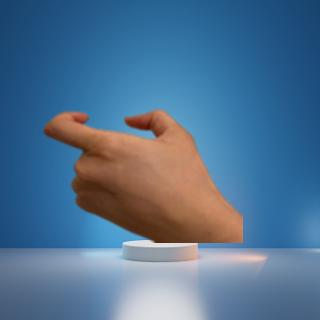HATE: (39, 105, 221, 241)
